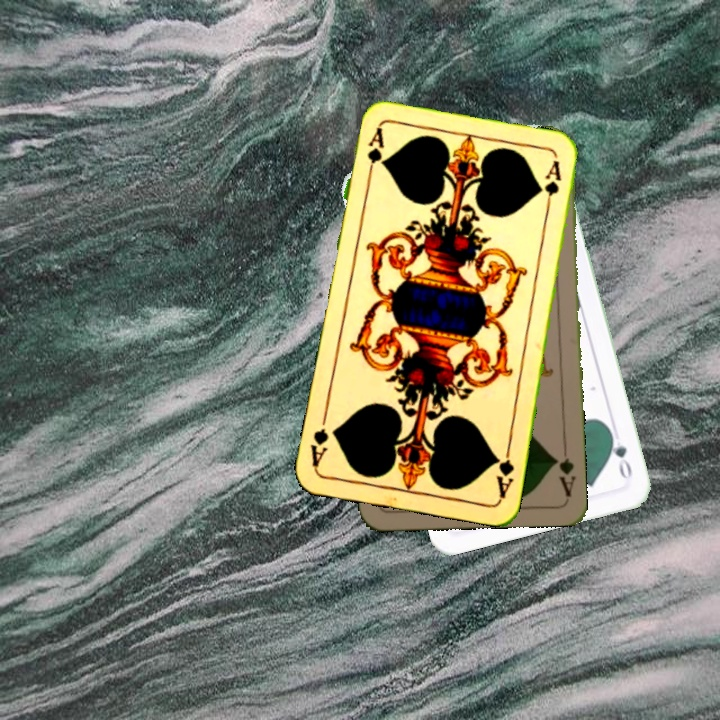GA: (550, 440, 578, 499), (491, 442, 517, 501), (362, 124, 386, 183)
GO: (605, 427, 635, 484)
